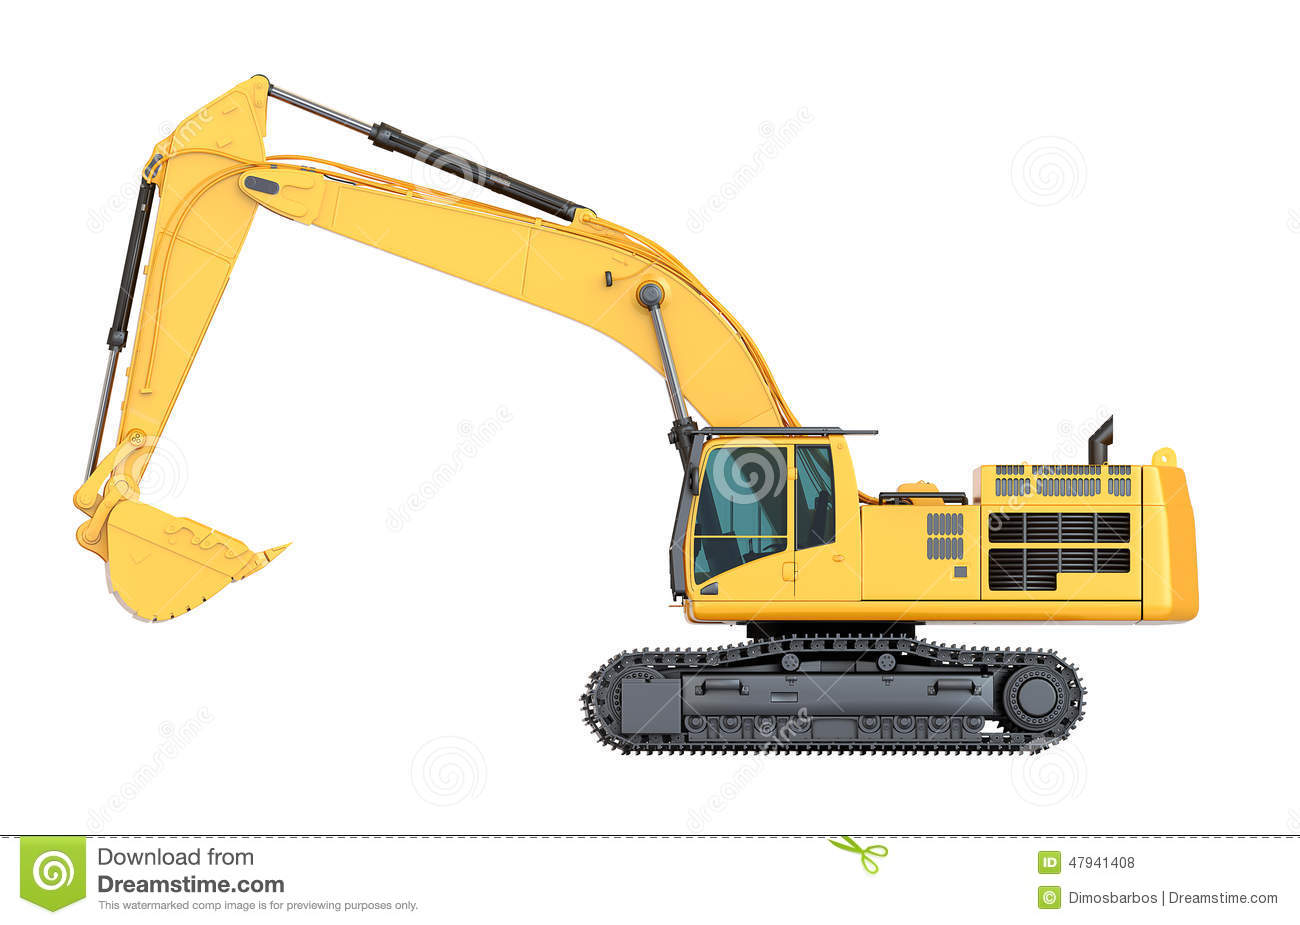backhoe: (70, 66, 1215, 770)
